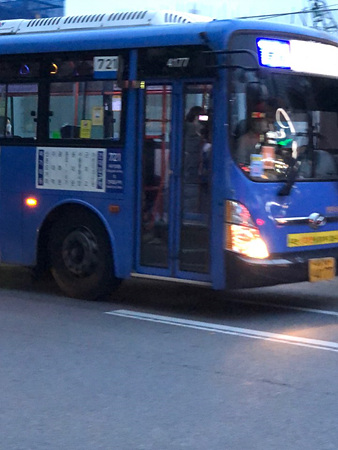entrance: (137, 75, 220, 284)
